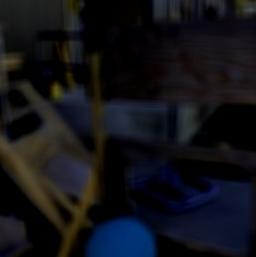algae: (88, 215, 159, 257)
